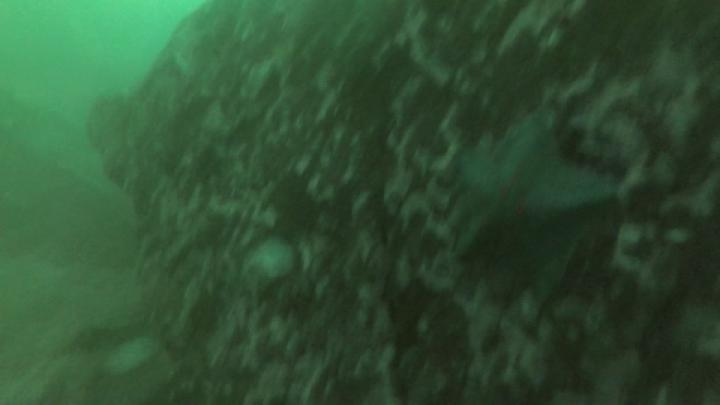starfish: (448, 114, 612, 269)
